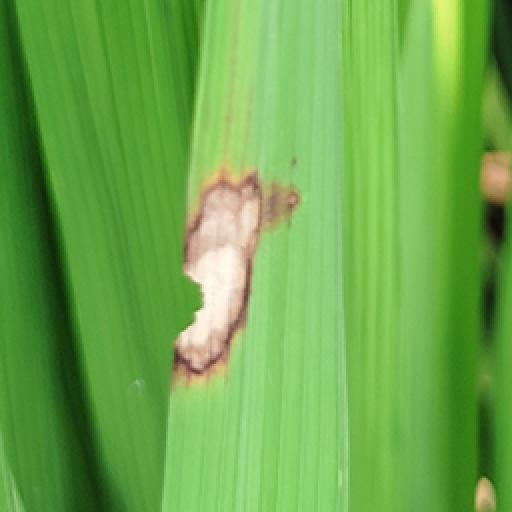Leaf Blast Disease: (142, 152, 328, 390)
